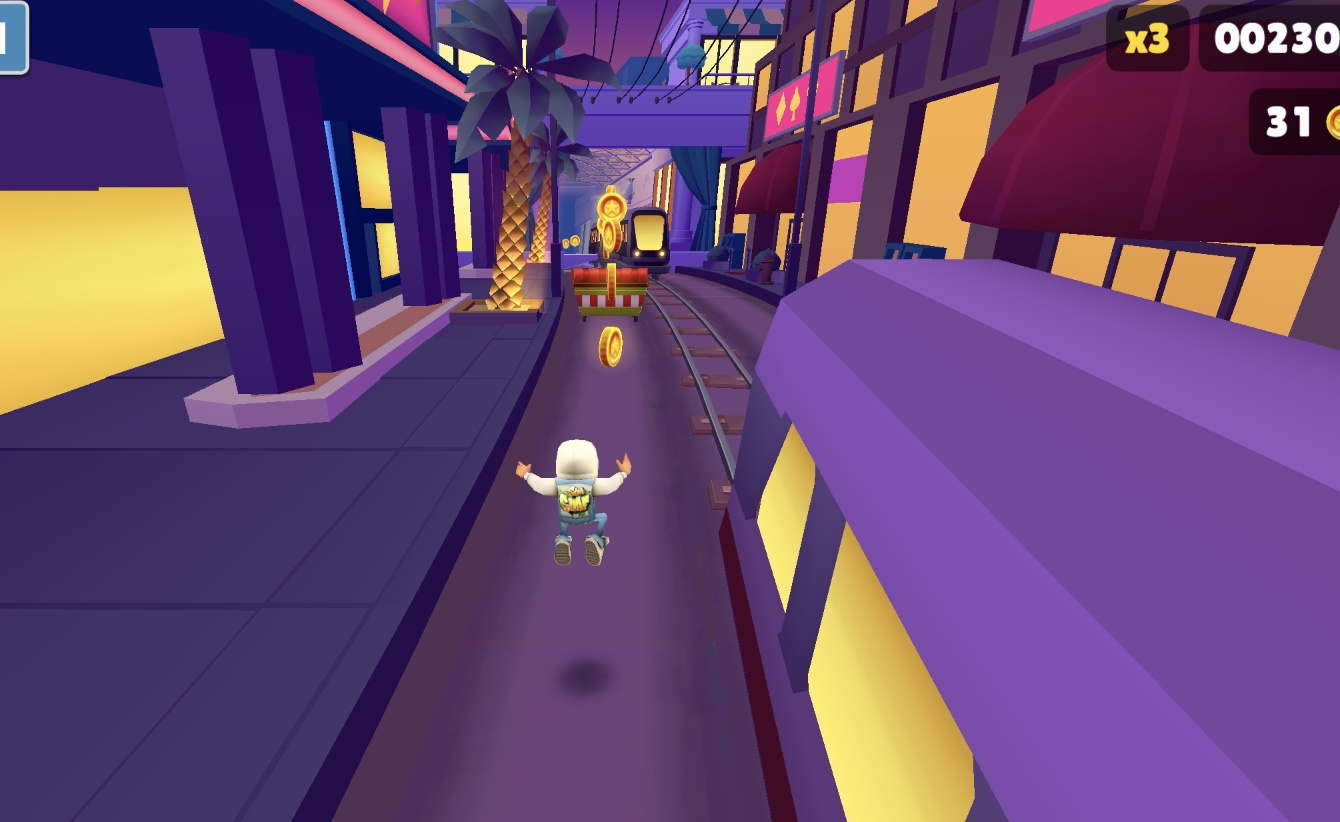ground_barrier: (564, 268, 648, 320)
train: (724, 257, 1340, 822), (621, 208, 670, 276)
